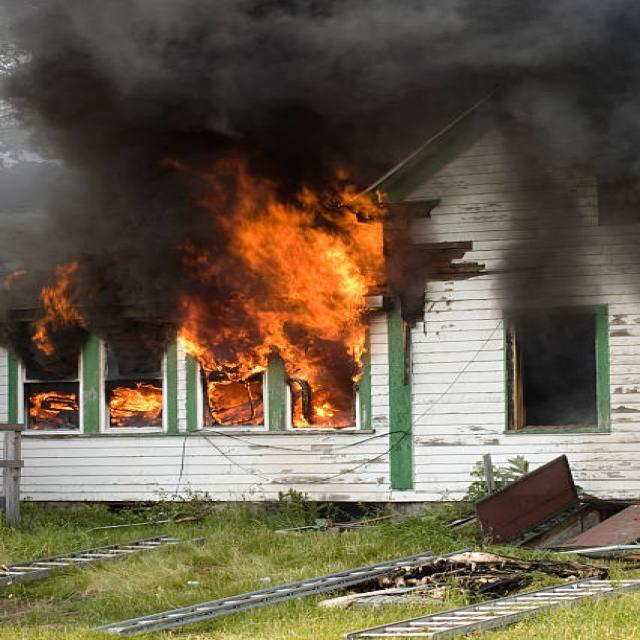Fire: (176, 163, 391, 405), (36, 276, 206, 439)
Smoke: (262, 0, 640, 275), (0, 0, 300, 327)
